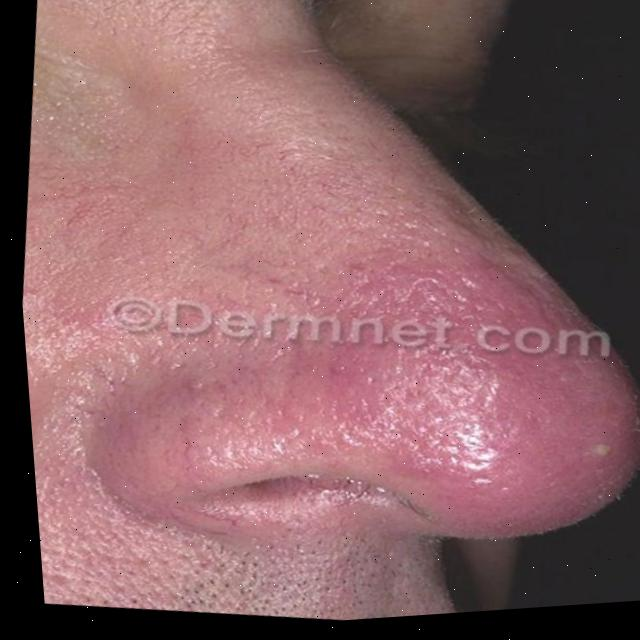Rosacea: (239, 201, 620, 506)
